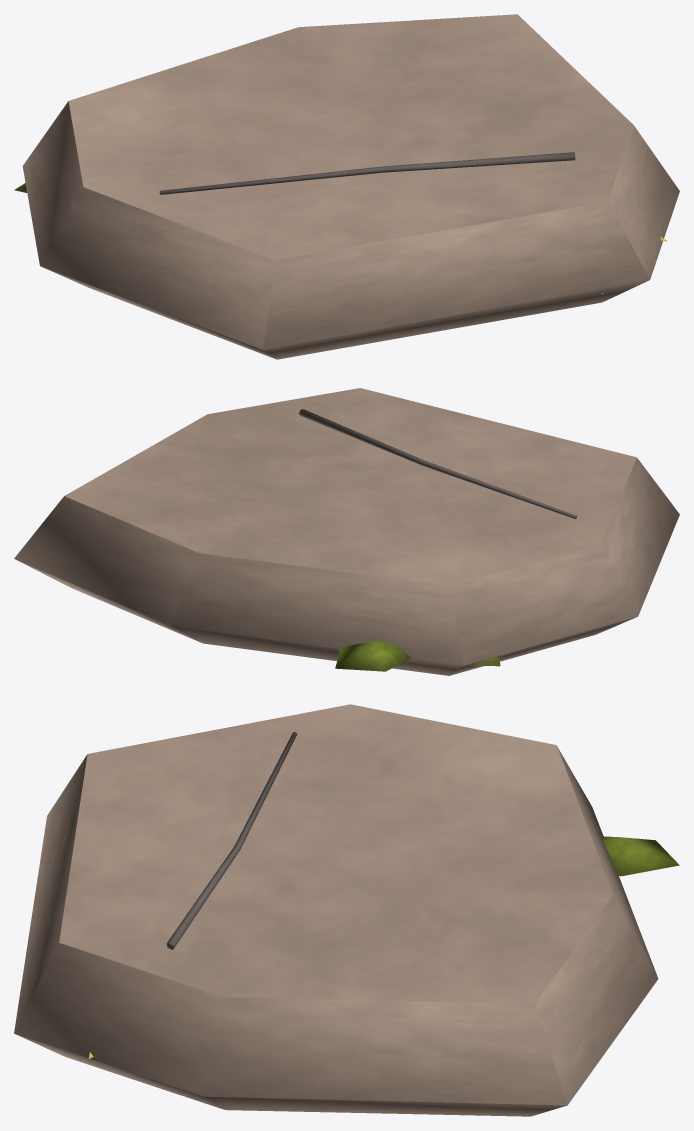
Rendered from ring-descent-ledge-2.fbx.
The picture shows the model from 3 angles, top to bottom: view 1: azimuth 30°, elevation 25°; view 2: azimuth 150°, elevation 25°; view 3: azimuth 270°, elevation 25°; orthographic projection. The views are drawn at different scales.
Parts seen in each view (by area): view 1: ring-descent-ledge-2__Geometry; view 2: ring-descent-ledge-2__Geometry; view 3: ring-descent-ledge-2__Geometry.
Part boxes in pixels (x1,y1,x2,y2): ring-descent-ledge-2__Geometry: (14,14,679,359); ring-descent-ledge-2__Geometry: (14,388,679,675); ring-descent-ledge-2__Geometry: (14,704,679,1116).
Bounding box in the file's own units: 0.95 × 0.1828 × 0.806.
